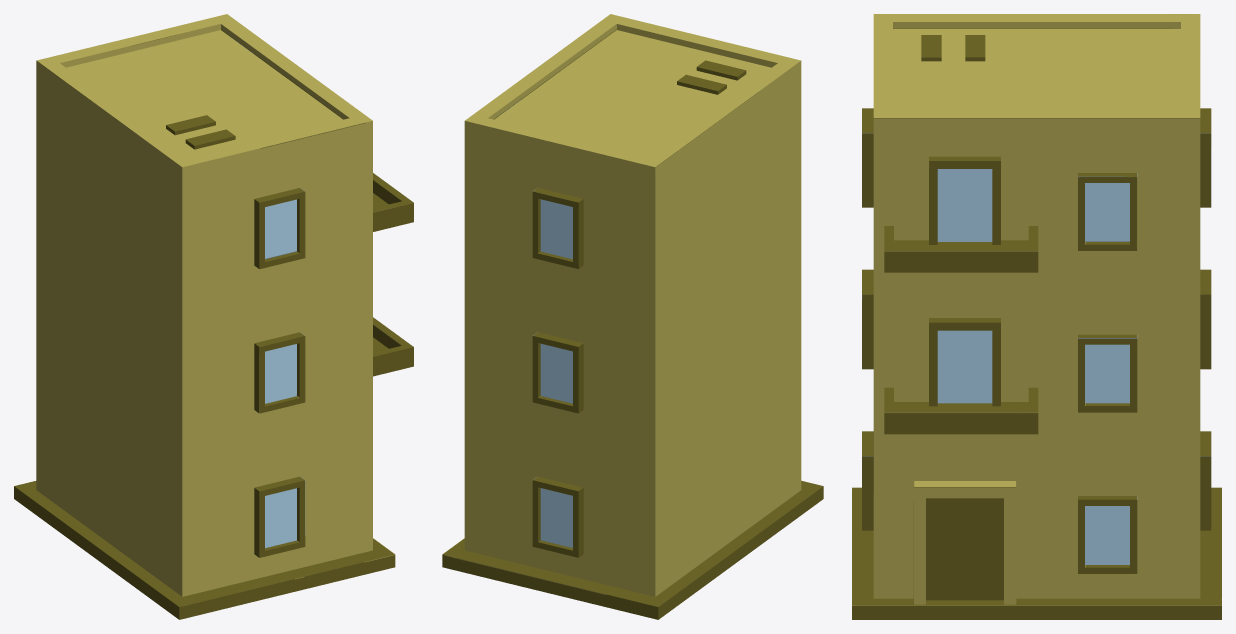
The model's file is apartament_yellow.fbx.
3 views of the same model, side by side, from view 1: azimuth 30°, elevation 25°; view 2: azimuth 150°, elevation 25°; view 3: azimuth 270°, elevation 25° (orthographic). The views are drawn at different scales.
Parts seen in each view (by area): view 1: apartament; view 2: apartament; view 3: apartament.
Part boxes in pixels (bbox=[...]): apartament: bbox=[14, 14, 413, 619]; apartament: bbox=[442, 14, 823, 619]; apartament: bbox=[852, 14, 1221, 619].
Bounding box in the file's own units: 629 × 1068 × 723.
1 material, 1 textured.
